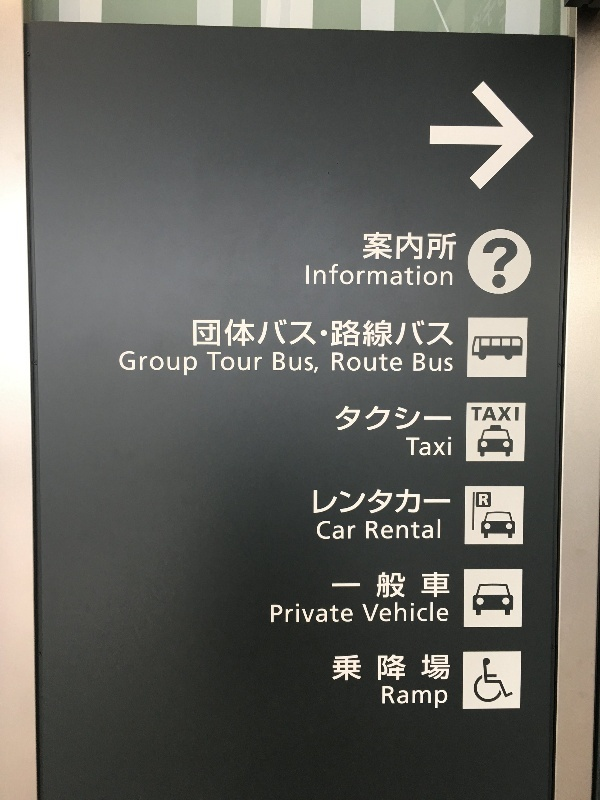text: (497, 236, 512, 289), (483, 236, 496, 289), (369, 231, 384, 261), (385, 231, 400, 261), (401, 231, 416, 261), (417, 231, 432, 261), (433, 231, 448, 261), (193, 319, 208, 347), (209, 319, 224, 347), (225, 319, 240, 347), (241, 319, 256, 347), (257, 319, 272, 347), (273, 319, 288, 347), (289, 319, 304, 347), (337, 654, 352, 682), (353, 654, 368, 682), (369, 654, 384, 682), (385, 654, 400, 682), (401, 654, 416, 682), (417, 654, 432, 682), (433, 654, 448, 682), (337, 320, 352, 347), (353, 320, 368, 347), (369, 320, 384, 347), (385, 320, 400, 347), (401, 320, 416, 347), (417, 320, 432, 347), (433, 320, 448, 347), (129, 350, 144, 377), (145, 350, 160, 377), (161, 350, 176, 377), (177, 350, 192, 377), (337, 405, 352, 432), (353, 405, 368, 432), (369, 405, 384, 432), (385, 405, 400, 432), (401, 405, 416, 432), (417, 405, 432, 432), (433, 405, 448, 432), (337, 572, 352, 599), (353, 572, 368, 599), (369, 572, 384, 599), (385, 572, 400, 599), (401, 572, 416, 599), (417, 572, 432, 599), (433, 572, 448, 599), (321, 489, 336, 515), (337, 489, 352, 515), (353, 489, 368, 515), (369, 489, 384, 515), (385, 489, 400, 515), (401, 489, 416, 515), (417, 489, 432, 515), (433, 489, 448, 515), (385, 686, 400, 709), (401, 686, 416, 709), (417, 686, 432, 709), (433, 686, 448, 709), (305, 319, 317, 347), (321, 264, 336, 286), (337, 264, 352, 286), (353, 264, 368, 286), (369, 264, 384, 286), (385, 264, 400, 286), (401, 264, 416, 286), (417, 264, 432, 286), (433, 264, 448, 286), (273, 352, 288, 374), (289, 352, 304, 374), (337, 603, 353, 623), (433, 602, 449, 622), (513, 236, 519, 289), (417, 436, 432, 457), (433, 436, 448, 457), (306, 264, 320, 286), (209, 352, 224, 372), (225, 352, 240, 372), (241, 352, 256, 372), (321, 520, 336, 540), (337, 520, 352, 540), (369, 519, 384, 539), (385, 519, 400, 539), (401, 519, 416, 539), (417, 519, 432, 539), (273, 603, 288, 623), (289, 603, 304, 623), (305, 603, 320, 623), (321, 603, 336, 623), (369, 602, 384, 622), (385, 602, 400, 622), (401, 602, 416, 622), (417, 602, 432, 622), (305, 352, 318, 374), (337, 353, 352, 372), (353, 353, 368, 372), (369, 353, 384, 372), (385, 353, 400, 372), (417, 353, 432, 372), (433, 353, 448, 372), (119, 350, 128, 377), (449, 231, 457, 261), (481, 407, 496, 422), (497, 407, 512, 422), (406, 436, 416, 457), (313, 489, 320, 515), (363, 231, 368, 261), (433, 519, 440, 539), (449, 320, 454, 347), (193, 350, 198, 377), (257, 352, 263, 372), (472, 407, 480, 422), (362, 602, 368, 622), (332, 320, 336, 347), (481, 494, 489, 506), (513, 407, 519, 422), (449, 264, 453, 286), (333, 654, 336, 682), (333, 572, 336, 599), (332, 353, 336, 372), (449, 353, 453, 372), (449, 436, 452, 457), (317, 520, 320, 540), (353, 520, 356, 540), (449, 654, 451, 682), (449, 405, 451, 432), (449, 489, 451, 515), (382, 686, 384, 709), (366, 519, 368, 539), (414, 353, 416, 372), (335, 405, 336, 432), (449, 572, 450, 599), (207, 352, 208, 372), (271, 603, 272, 623), (401, 353, 402, 372), (479, 494, 480, 506)
